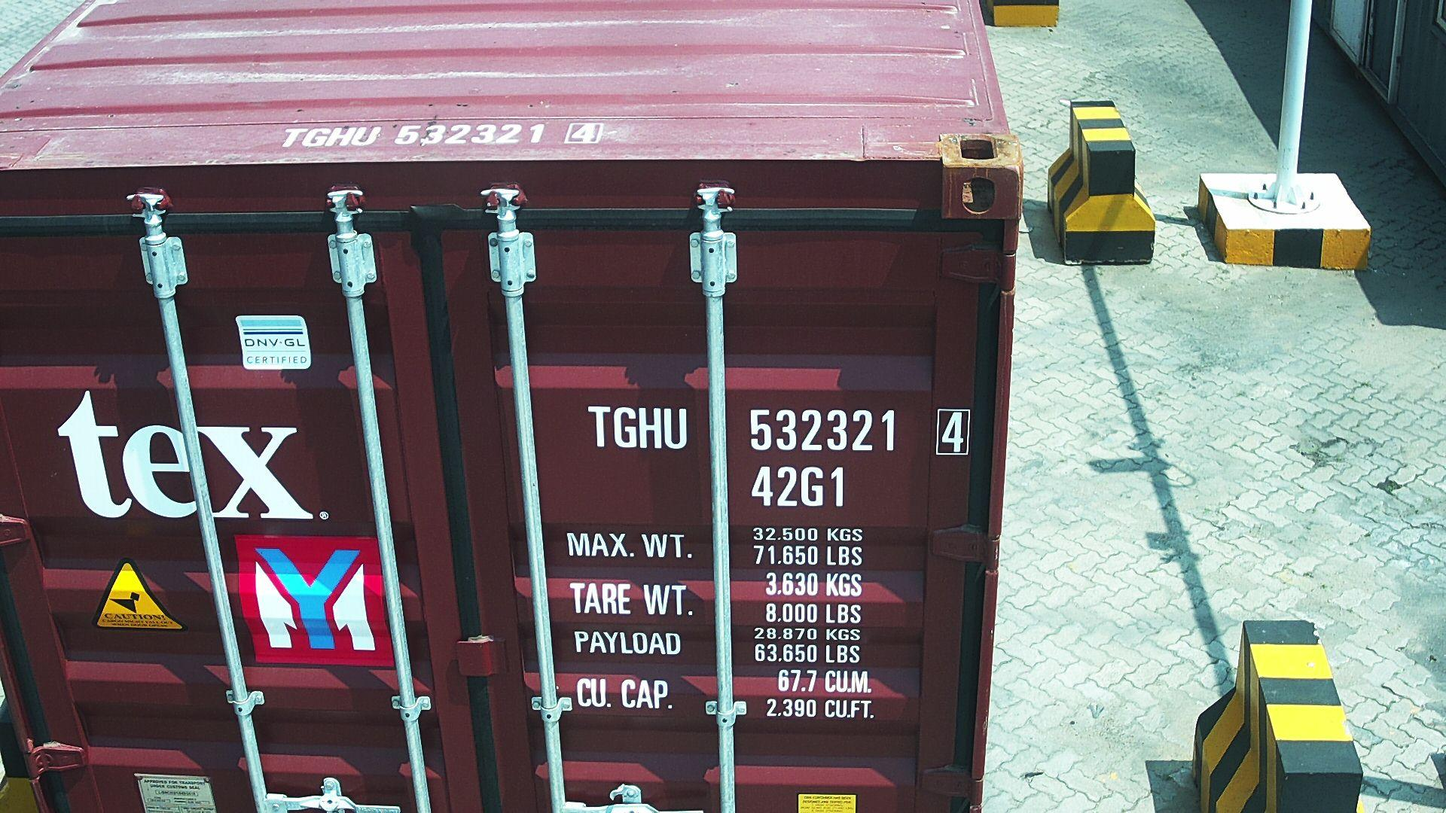container-numbers: (585, 403, 975, 458), (273, 120, 612, 148), (748, 463, 849, 510)
